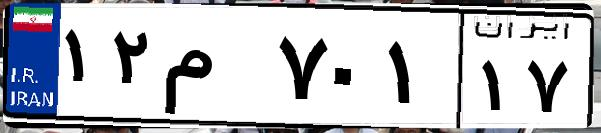0: (330, 28, 385, 110)
1: (385, 28, 445, 110), (57, 26, 110, 100), (475, 38, 525, 113)
2: (110, 28, 158, 98)
7: (270, 28, 330, 110), (525, 38, 570, 115)
م: (158, 20, 270, 120)
